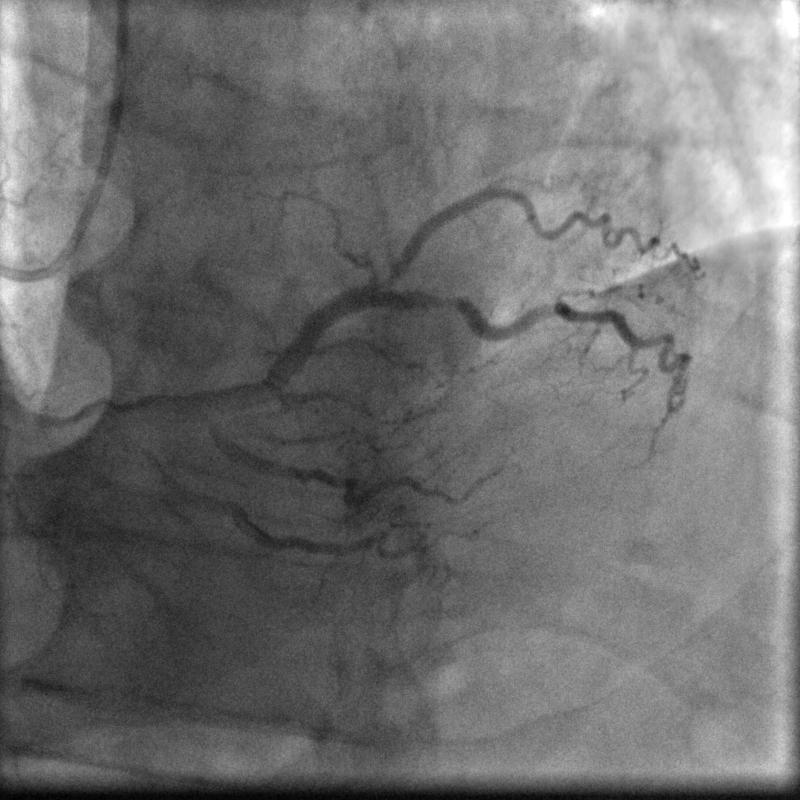Stenosis: (407, 284, 470, 319)
